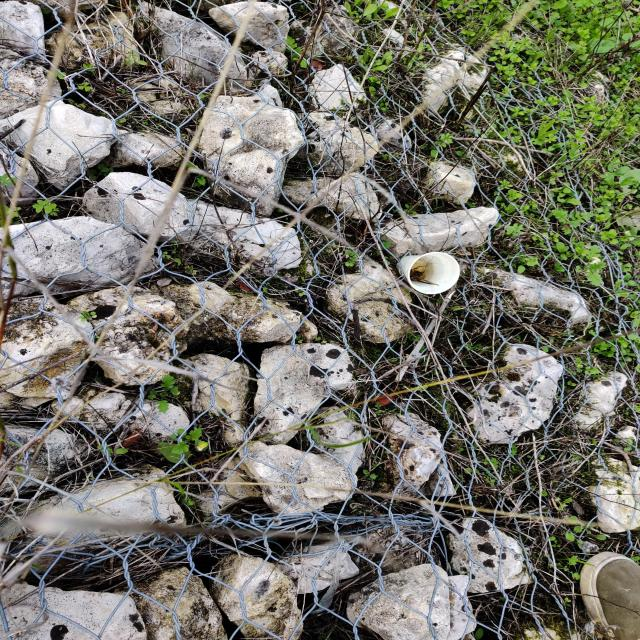litter: (402, 247, 465, 298)
